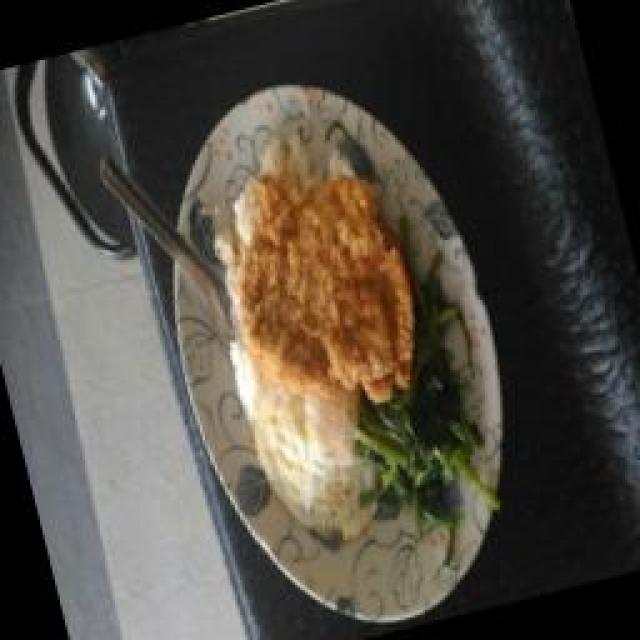Wet Waste: (202, 138, 438, 428), (312, 228, 500, 530), (238, 345, 402, 560)
